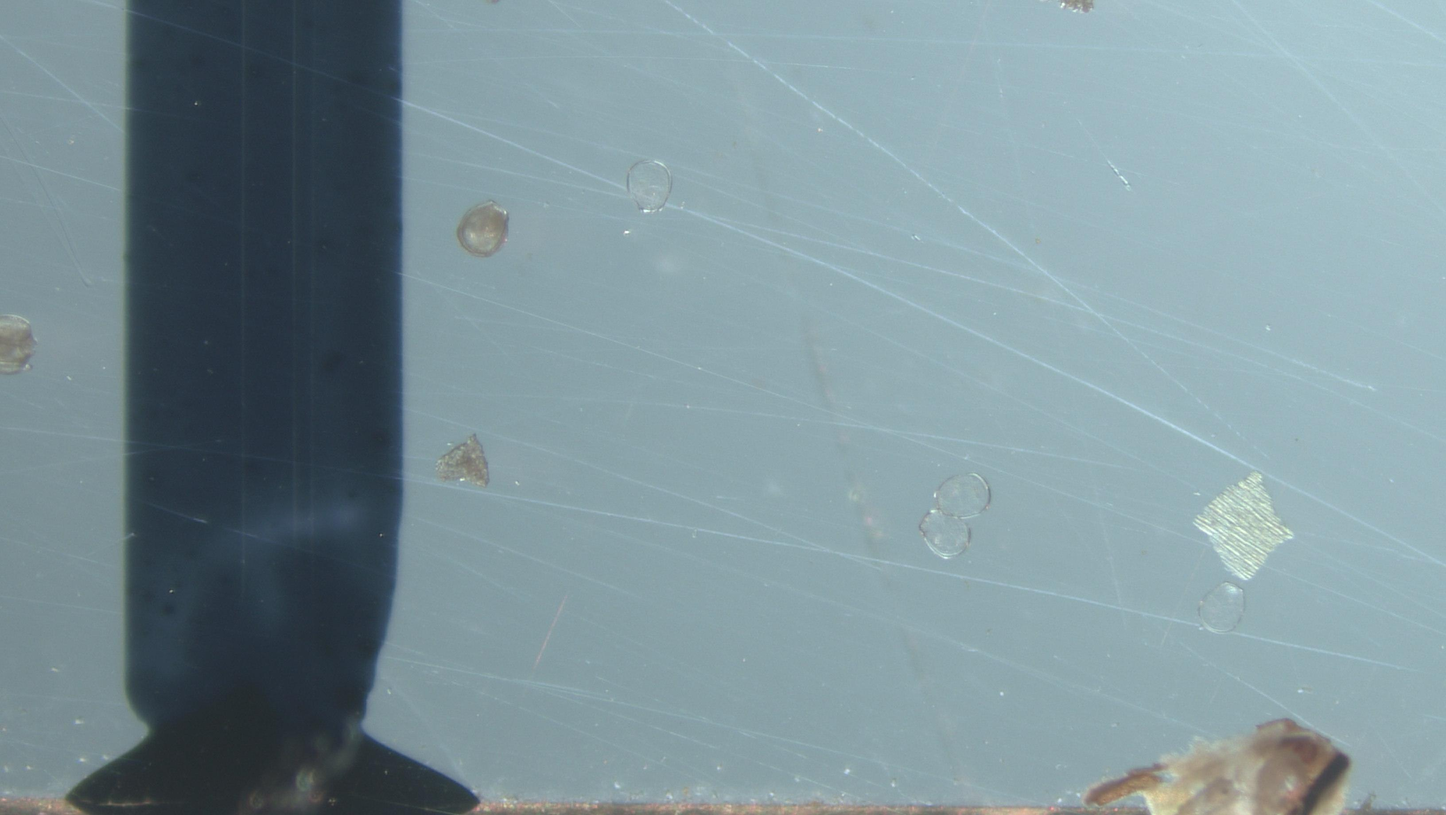dead: (457, 202, 509, 257), (919, 508, 972, 560), (934, 473, 991, 519), (626, 160, 672, 213), (1199, 582, 1246, 633)
live: (0, 315, 36, 374)
